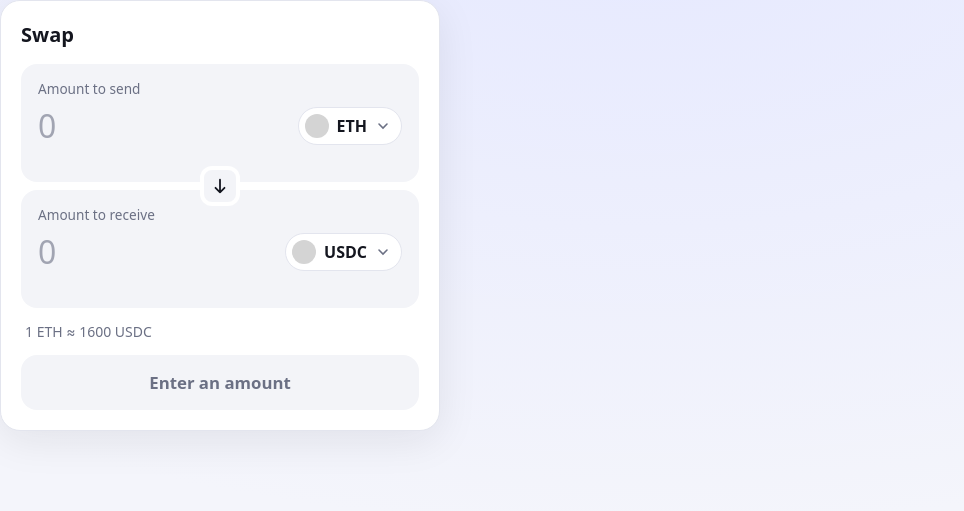
SwapForm › shows an error when the swap fails and keeps the amount
Type "2" into the field labelled "Amount to send".
click(162, 126); type("2")  # box [38,104,286,147]
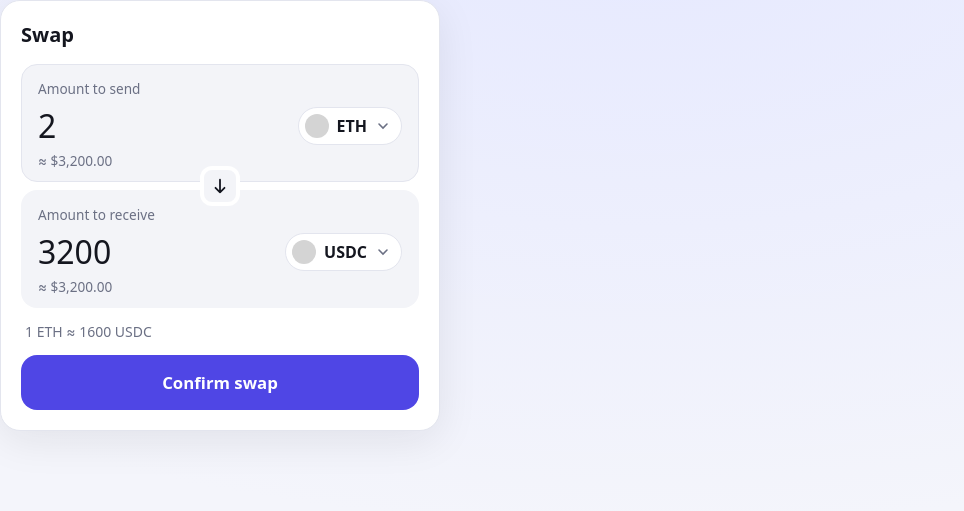
Click the button "Confirm swap".
click(220, 382)  # box [21,355,419,410]
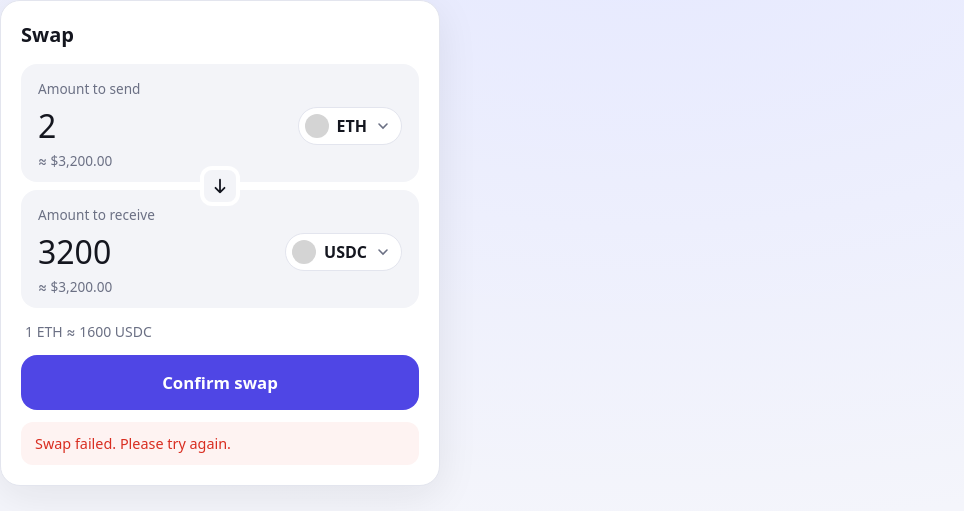
Now the button "Confirm swap" is enabled, box [21,355,419,410]
Now the text "Swap failed. Please try again." is shown, box [21,422,419,465]
